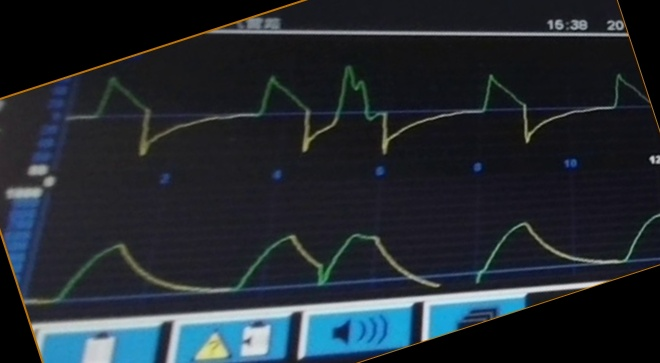Double_Triggering Flow: (103, 64, 638, 155)
Double_Triggering Volume: (59, 209, 660, 296)
